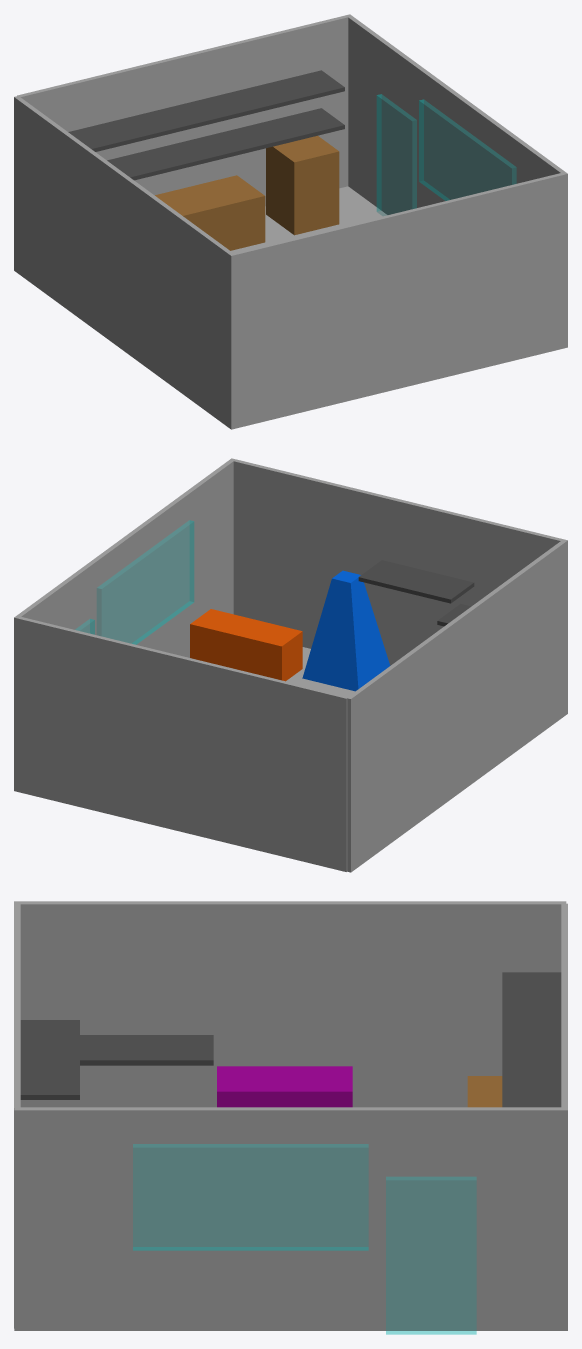
Rendered from scene anyhow.fbx.
3 renders of one model, top to bottom at view 1: azimuth 30°, elevation 25°; view 2: azimuth 150°, elevation 25°; view 3: azimuth 270°, elevation 25°, orthographic. The views are drawn at different scales.
Parts seen in each view (by area): view 1: pCube158, pCube166, pCube167, pCube171, pCube173, pCube168, pCube170, pCube172; view 2: pCube166, pCube158, pCube173, pCube160, pCube159, pCube161; view 3: pCube166, pCube158, pCube173, pCube172, pCube167, pCube164, pCube163, pCube161, pCube169, pCube162.
Part boxes in pixels (x1,y1,x2,y2): pCube158: [14, 96, 564, 429]; pCube166: [17, 14, 567, 348]; pCube167: [68, 70, 344, 151]; pCube171: [266, 135, 339, 235]; pCube173: [419, 99, 516, 200]; pCube168: [107, 108, 344, 180]; pCube170: [155, 175, 265, 250]; pCube172: [377, 94, 416, 215]; pCube166: [14, 458, 347, 871]; pCube158: [233, 459, 567, 872]; pCube173: [97, 520, 193, 644]; pCube160: [302, 570, 390, 691]; pCube159: [190, 609, 302, 681]; pCube161: [358, 560, 474, 603]; pCube166: [14, 903, 567, 1330]; pCube158: [14, 901, 566, 1328]; pCube173: [133, 1144, 368, 1250]; pCube172: [386, 1177, 476, 1334]; pCube167: [502, 972, 561, 1107]; pCube164: [217, 1066, 352, 1107]; pCube163: [80, 1035, 213, 1065]; pCube161: [20, 1037, 79, 1099]; pCube169: [467, 1076, 502, 1107]; pCube162: [20, 1020, 79, 1037].
Bounding box in the file's own units: 59.57 × 28.88 × 65.68.
